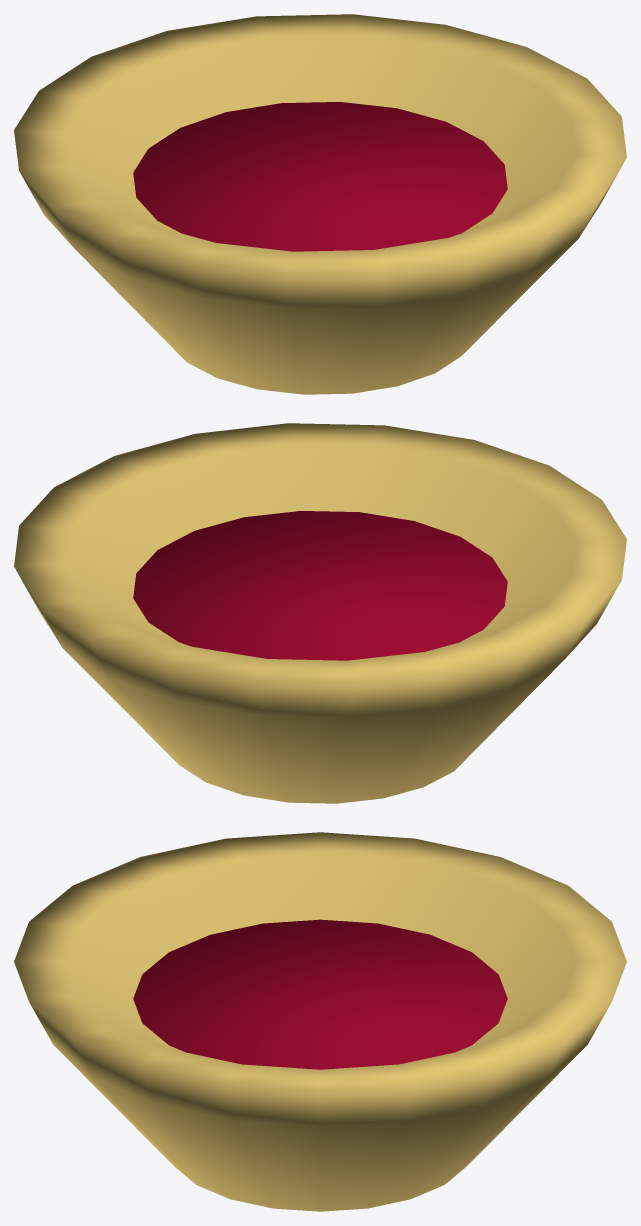
Rendered from occult_tool_ritual_bowl.glb.
3 renders of one model, top to bottom at view 1: azimuth 30°, elevation 25°; view 2: azimuth 150°, elevation 25°; view 3: azimuth 270°, elevation 25°, orthographic.
Parts seen in each view (by area): view 1: GD_occult_tool_ritual_bowl__m0, GD_occult_tool_ritual_bowl__m1; view 2: GD_occult_tool_ritual_bowl__m0, GD_occult_tool_ritual_bowl__m1; view 3: GD_occult_tool_ritual_bowl__m0, GD_occult_tool_ritual_bowl__m1.
Part boxes in pixels (left/top/right/bottom): GD_occult_tool_ritual_bowl__m0: left=14, top=14, right=626, bottom=394; GD_occult_tool_ritual_bowl__m1: left=133, top=102, right=507, bottom=251; GD_occult_tool_ritual_bowl__m0: left=14, top=423, right=626, bottom=803; GD_occult_tool_ritual_bowl__m1: left=133, top=511, right=507, bottom=660; GD_occult_tool_ritual_bowl__m0: left=14, top=832, right=626, bottom=1211; GD_occult_tool_ritual_bowl__m1: left=133, top=919, right=507, bottom=1069.
Size of the model in its own units: 0.24 by 0.08 by 0.24.
